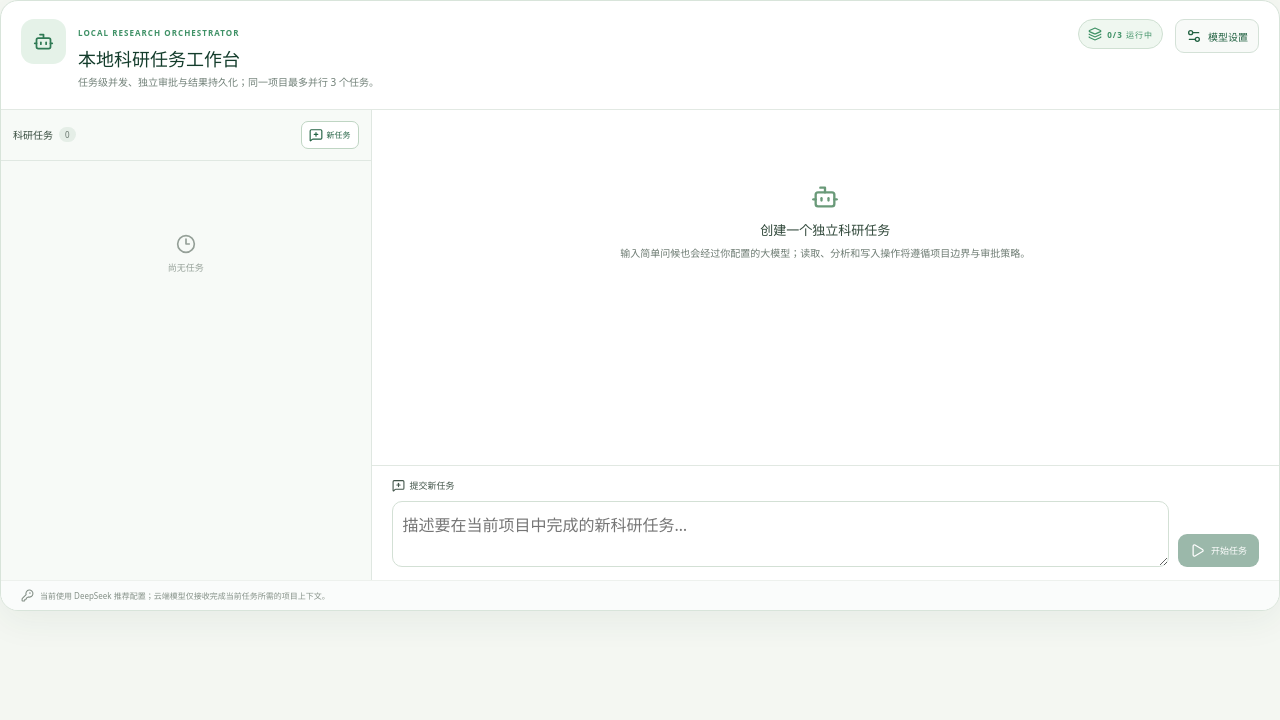
it: WorkflowAgentPanel › 一个任务运行时仍可提交第二个独立任务，并用不同 run_id 路由事件
This screenshot has width=1280, height=720.
In the text box with placeholder "描述要在当前项目中完成的新科研任务…": [780, 534] box x1=392 y1=500 x2=1169 y2=566, type "任务一：读取 CSV"
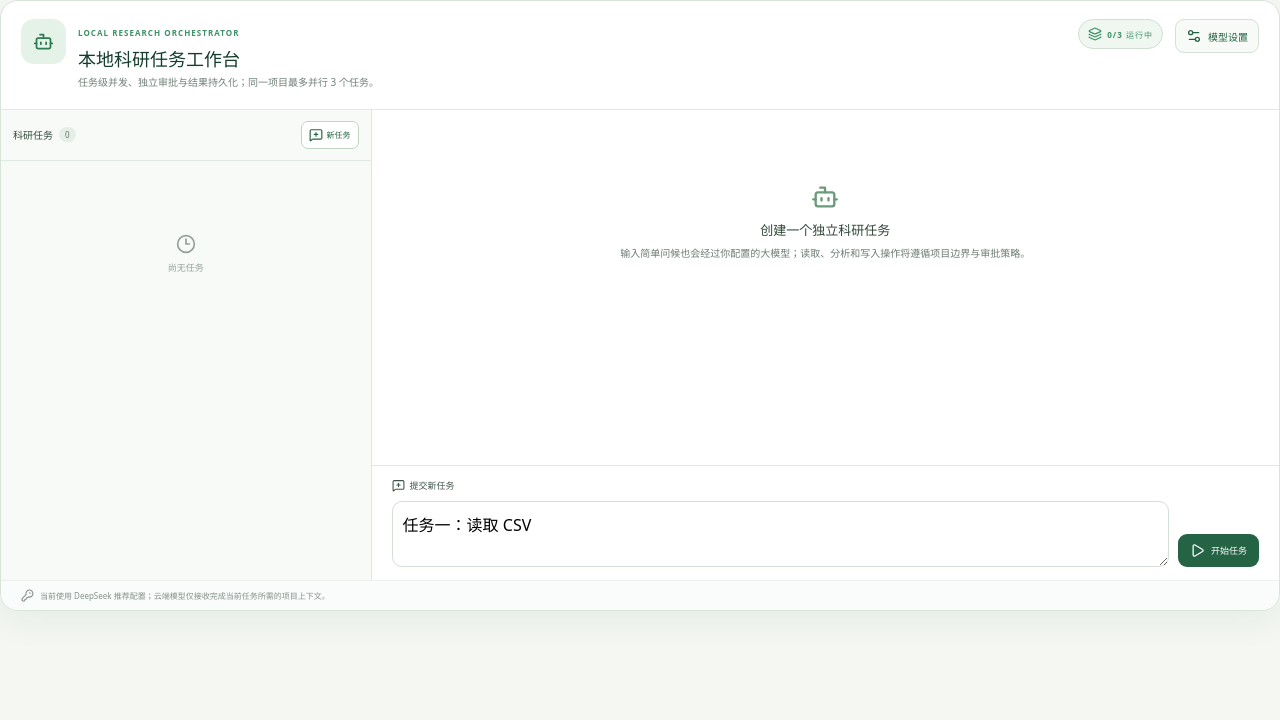
Click the button "开始任务": [1218, 550] box x1=1178 y1=534 x2=1259 y2=566
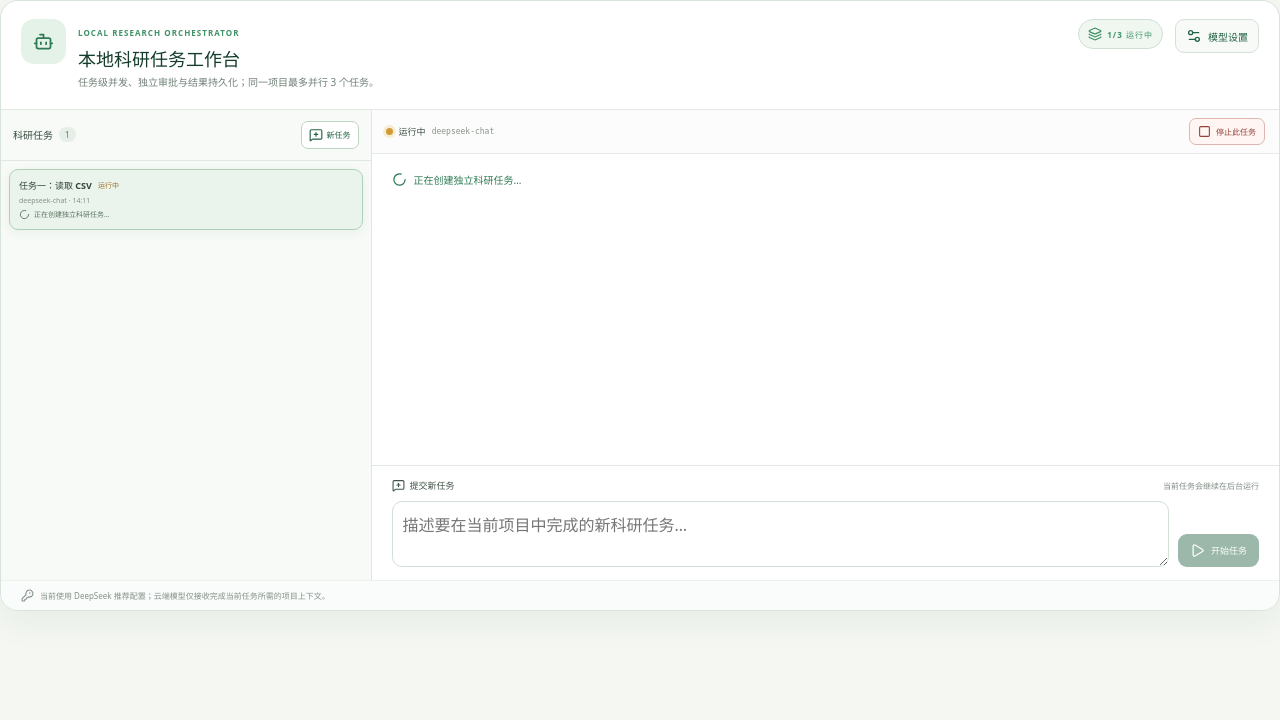
In the text box with placeholder "描述要在当前项目中完成的新科研任务…": [780, 534] box x1=392 y1=500 x2=1169 y2=566, type "任务二：检查报告"
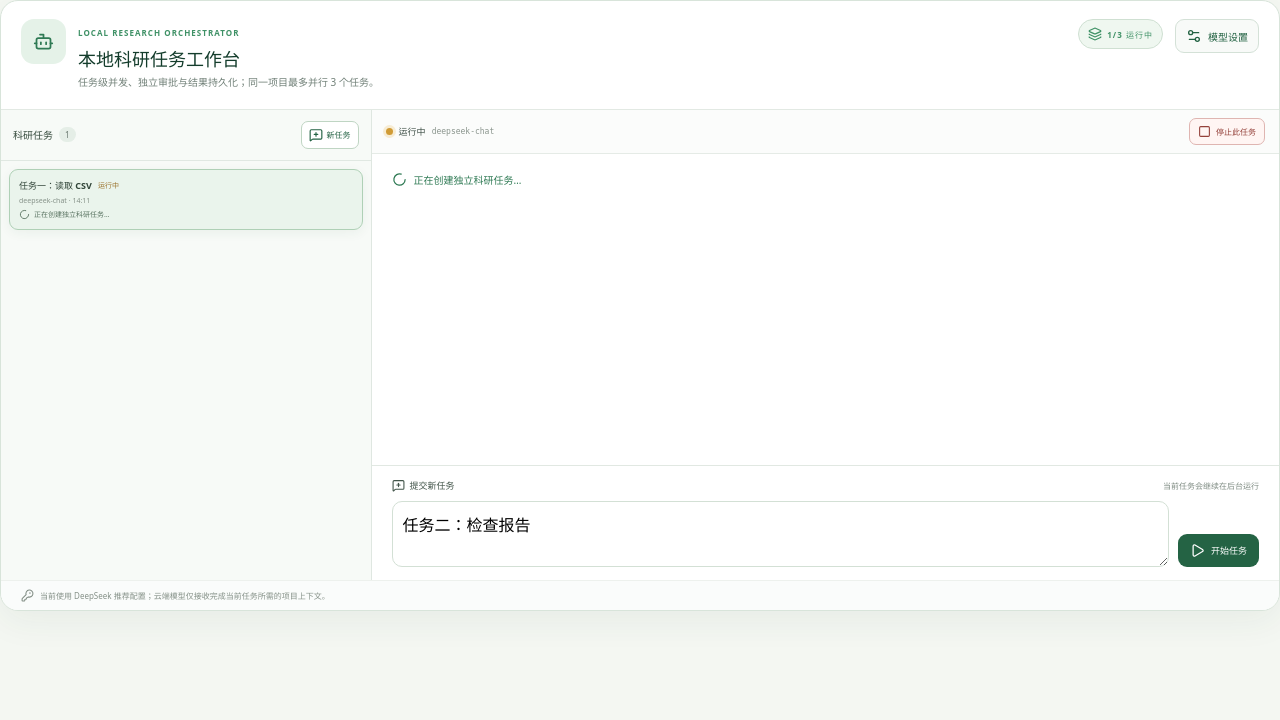
Check: the text "当前任务会继续在后台运行" is shown, box x1=1163 y1=480 x2=1259 y2=490
Click the button "开始任务": [1218, 550] box x1=1178 y1=534 x2=1259 y2=566
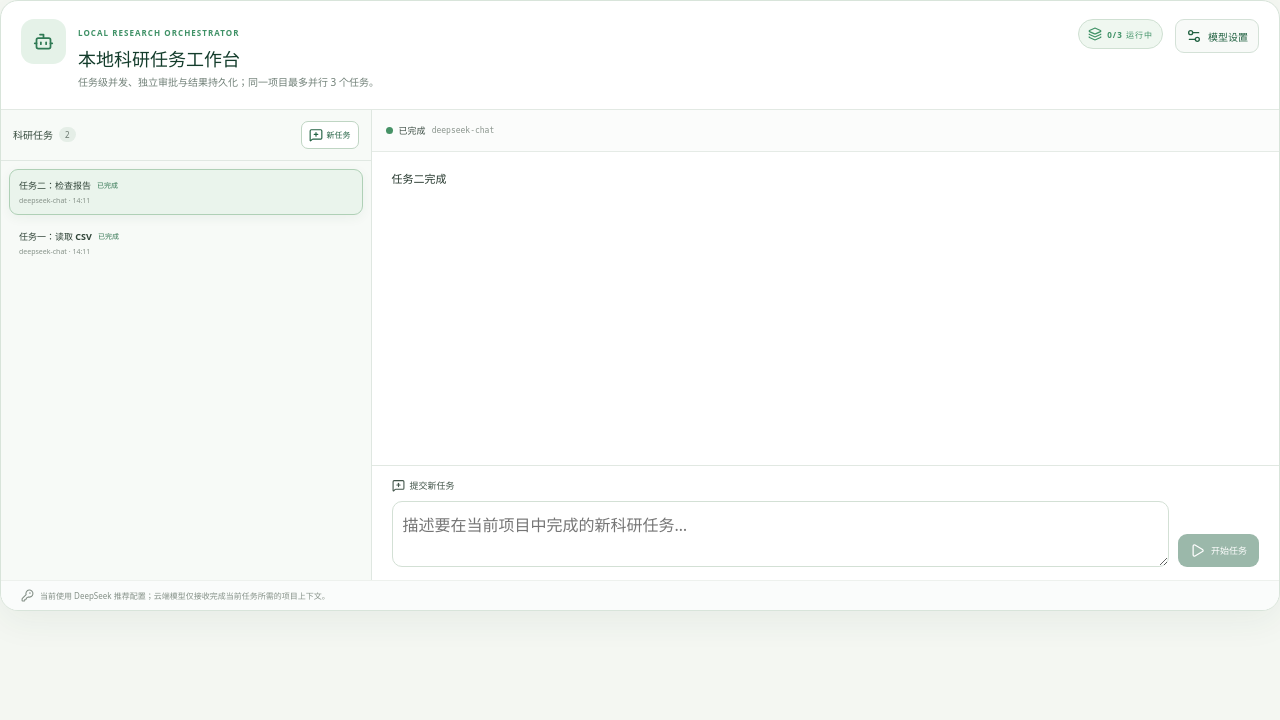
Check: the text "任务一：读取 CSV" is shown, box x1=19 y1=230 x2=92 y2=242
Check: the text "任务二：检查报告" is shown, box x1=19 y1=178 x2=91 y2=192
Check: the text "0/3 运行中" is shown, box x1=1078 y1=19 x2=1163 y2=49
